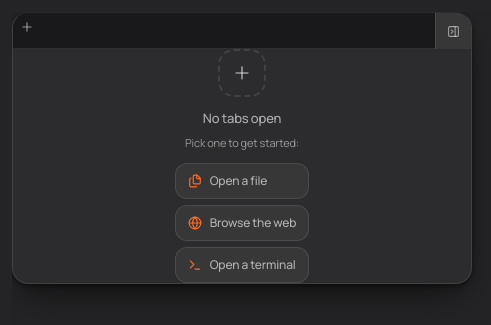
Test: RightSidebar quick menu — ROUND-64 (R64-b): the Computer entry is GONE › the quick menu offers no Computer item (the floating monitor is the only computer surface)
expect the text "No tabs open" is shown: met, box [203,109,281,127]
Click the button named "New tab": (27, 27) [13,13,41,41]
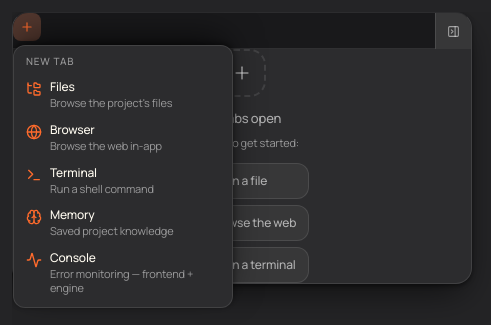
expect the text "Browse the project's files" is shown: met, box [50,96,172,110]
expect the text "Browser" is shown: met, box [50,121,95,138]
expect the text "Terminal" is shown: met, box [50,164,97,180]
